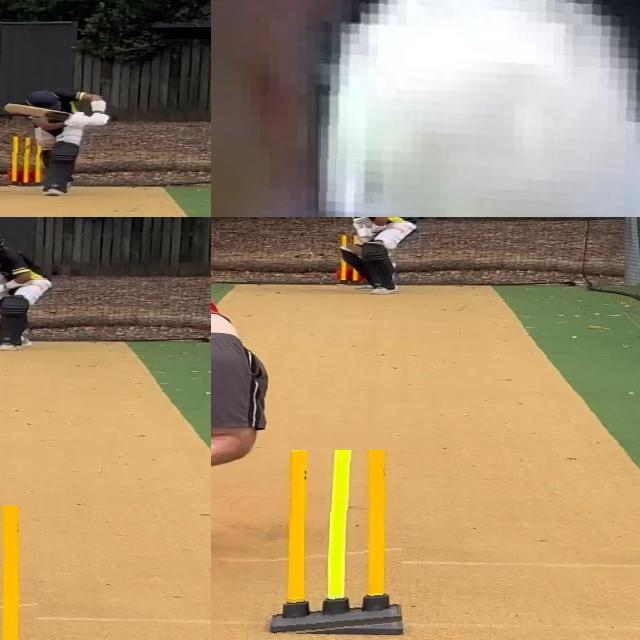Cricket ball: (318, 0, 640, 217)
Stumps: (274, 450, 404, 636), (12, 135, 42, 186)
